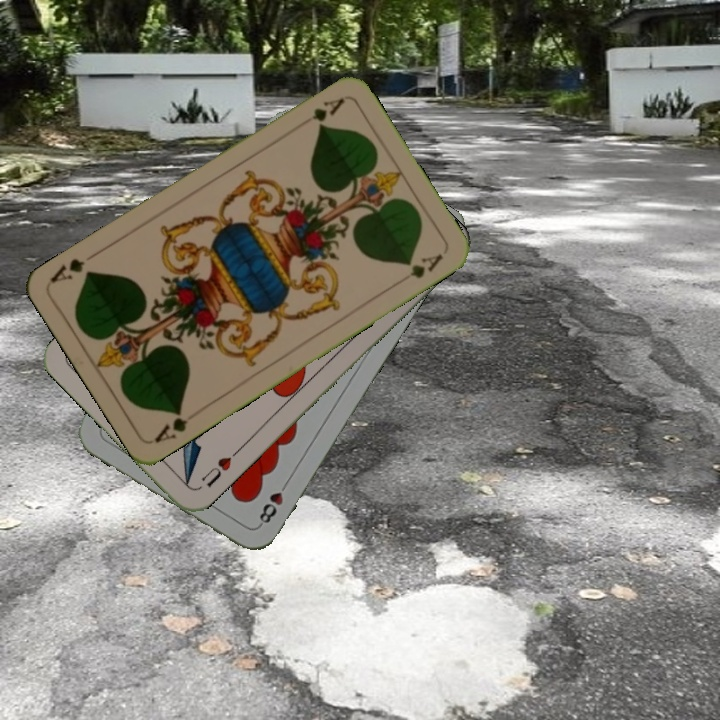GA: (293, 93, 347, 129), (150, 404, 191, 446)
H8: (254, 476, 292, 529)
HU: (197, 446, 241, 490)
